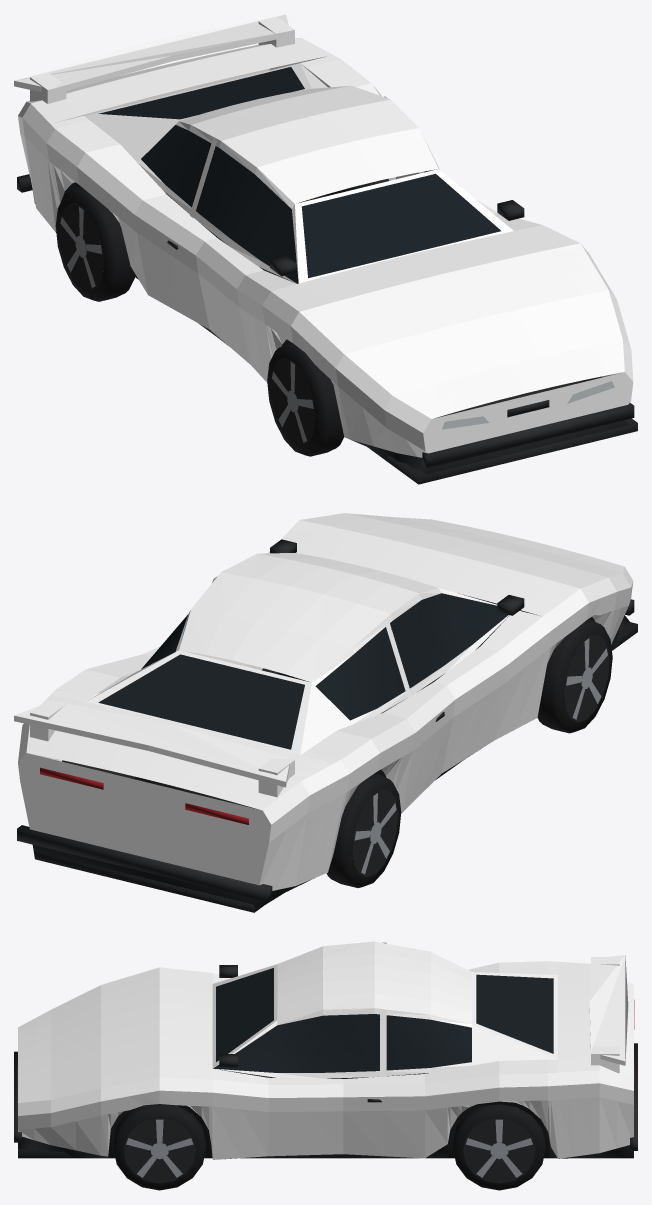
File: vantra_aster.glb
The picture shows the model from 3 angles, top to bottom: view 1: azimuth 30°, elevation 25°; view 2: azimuth 150°, elevation 25°; view 3: azimuth 270°, elevation 25°; orthographic projection. The views are drawn at different scales.
Visible parts, largest first — view 1: Body_Paint, Body_Details, Mount_RearLeft_Wheel_Details, Mount_FrontLeft_Wheel_Details; view 2: Body_Paint, Body_Details, Mount_FrontLeft_Wheel_Details, Mount_RearLeft_Wheel_Details; view 3: Body_Paint, Body_Details, Mount_FrontRight_Wheel_Details, Mount_RearRight_Wheel_Details.
Boxes of the visible parts, x1=… form: Body_Paint: x1=14, y1=14, x2=633, y2=457; Body_Details: x1=17, y1=67, x2=637, y2=484; Mount_RearLeft_Wheel_Details: x1=55, y1=187, x2=135, y2=301; Mount_FrontLeft_Wheel_Details: x1=267, y1=342, x2=344, y2=456; Body_Paint: x1=14, y1=513, x2=633, y2=890; Body_Details: x1=17, y1=539, x2=637, y2=912; Mount_FrontLeft_Wheel_Details: x1=537, y1=619, x2=612, y2=733; Mount_RearLeft_Wheel_Details: x1=326, y1=773, x2=401, y2=887; Body_Paint: x1=18, y1=941, x2=633, y2=1159; Body_Details: x1=14, y1=965, x2=637, y2=1159; Mount_FrontRight_Wheel_Details: x1=113, y1=1104, x2=206, y2=1190; Mount_RearRight_Wheel_Details: x1=452, y1=1104, x2=545, y2=1190.
Size of the model in its own units: 1.96 by 1.25 by 4.36.
2 materials, 1 textured.
